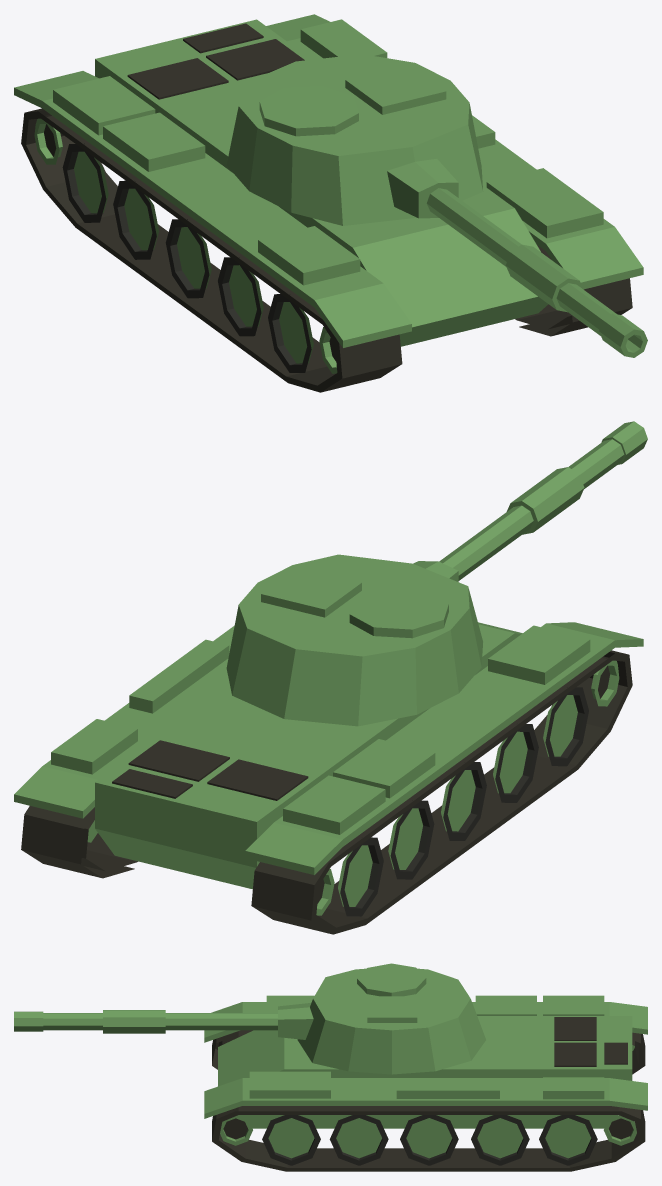
Rendered from Tanque2.fbx.
The picture shows the model from 3 angles, top to bottom: view 1: azimuth 30°, elevation 25°; view 2: azimuth 150°, elevation 25°; view 3: azimuth 270°, elevation 25°; orthographic projection. The views are drawn at different scales.
Parts seen in each view (by area): view 1: Treads, Turret; view 2: Treads, Turret; view 3: Treads, Turret.
Boxes of the visible parts, x1,y1,x2,y2 form: Treads: (14, 14, 643, 392); Turret: (226, 54, 647, 357); Treads: (14, 622, 643, 934); Turret: (226, 421, 647, 726); Treads: (204, 995, 647, 1171); Turret: (14, 963, 485, 1074).
Size of the model in its own units: 19.94 by 12.32 by 54.03.
